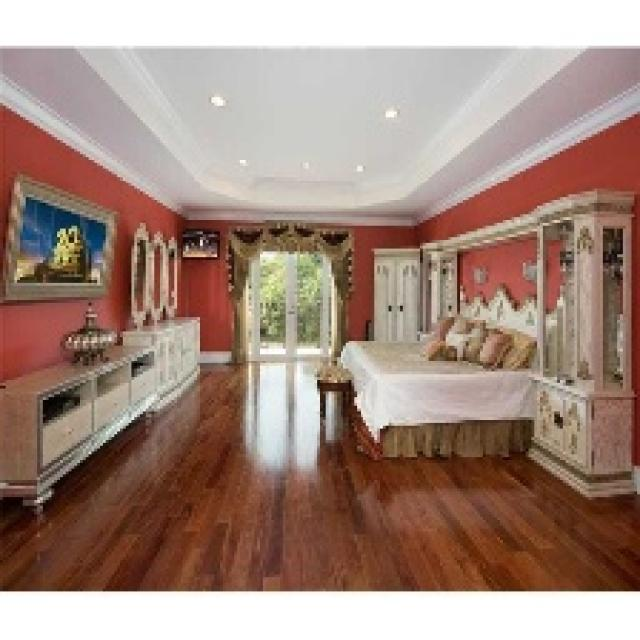Bed: (337, 283, 540, 460)
